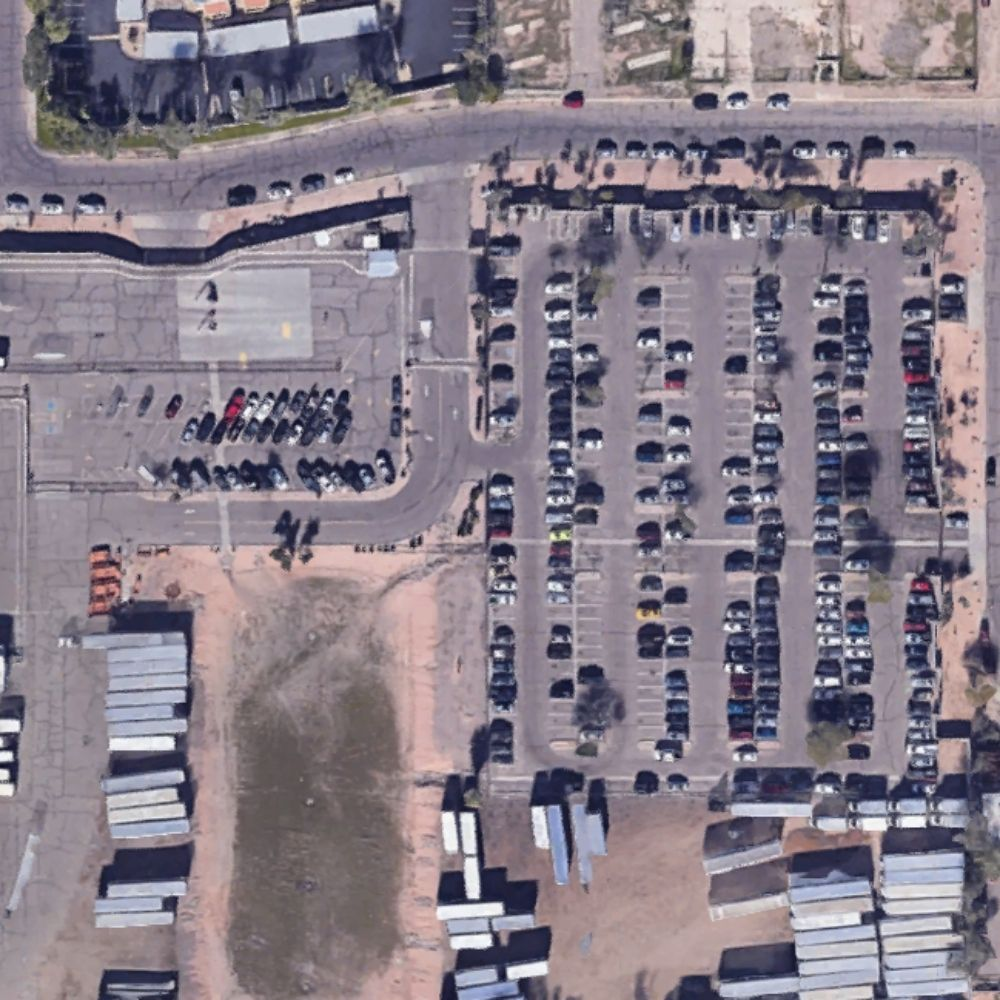parking: (485, 285, 940, 795), (25, 375, 400, 490)
